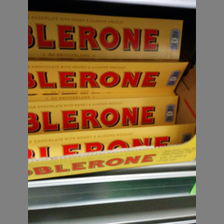chocolate: (28, 10, 183, 60), (28, 97, 179, 134), (28, 61, 189, 95)
